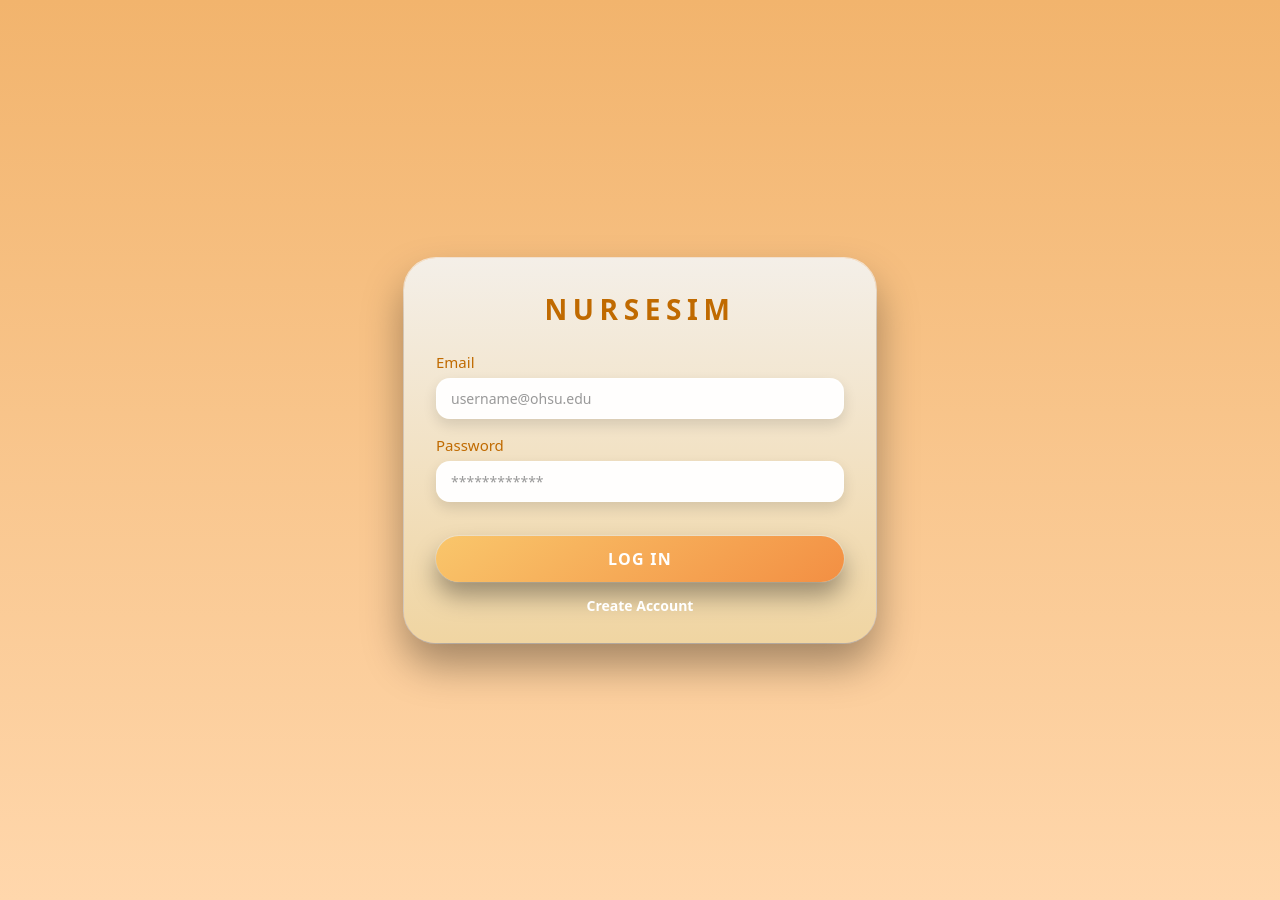
LoginPage › shows errors for invalid email and empty password
Type "invalidemail" into the field labelled "Email" at {"x": 640, "y": 398}, box [436, 378, 844, 418]
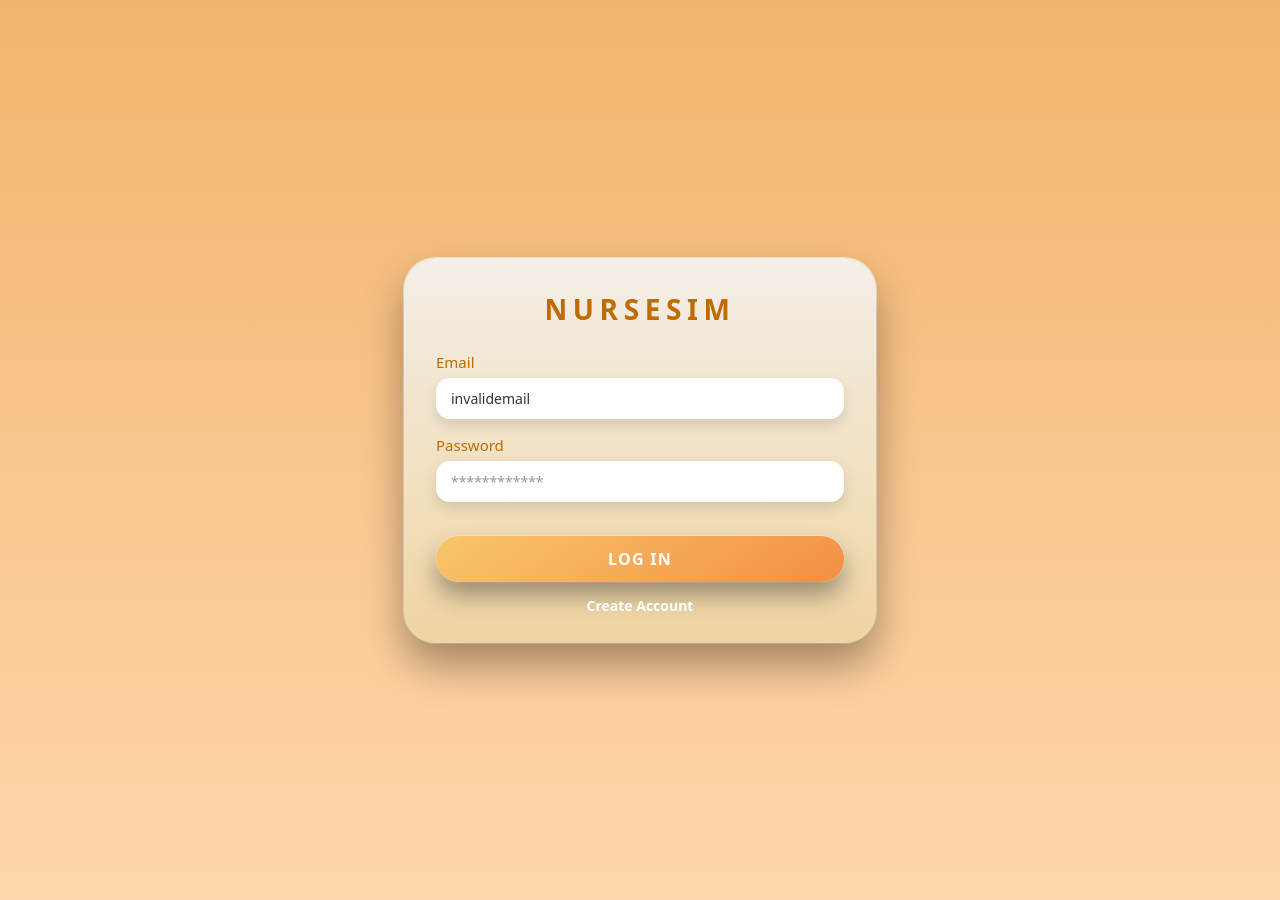
Click the button "Log In" at {"x": 640, "y": 558}, box [436, 536, 844, 582]
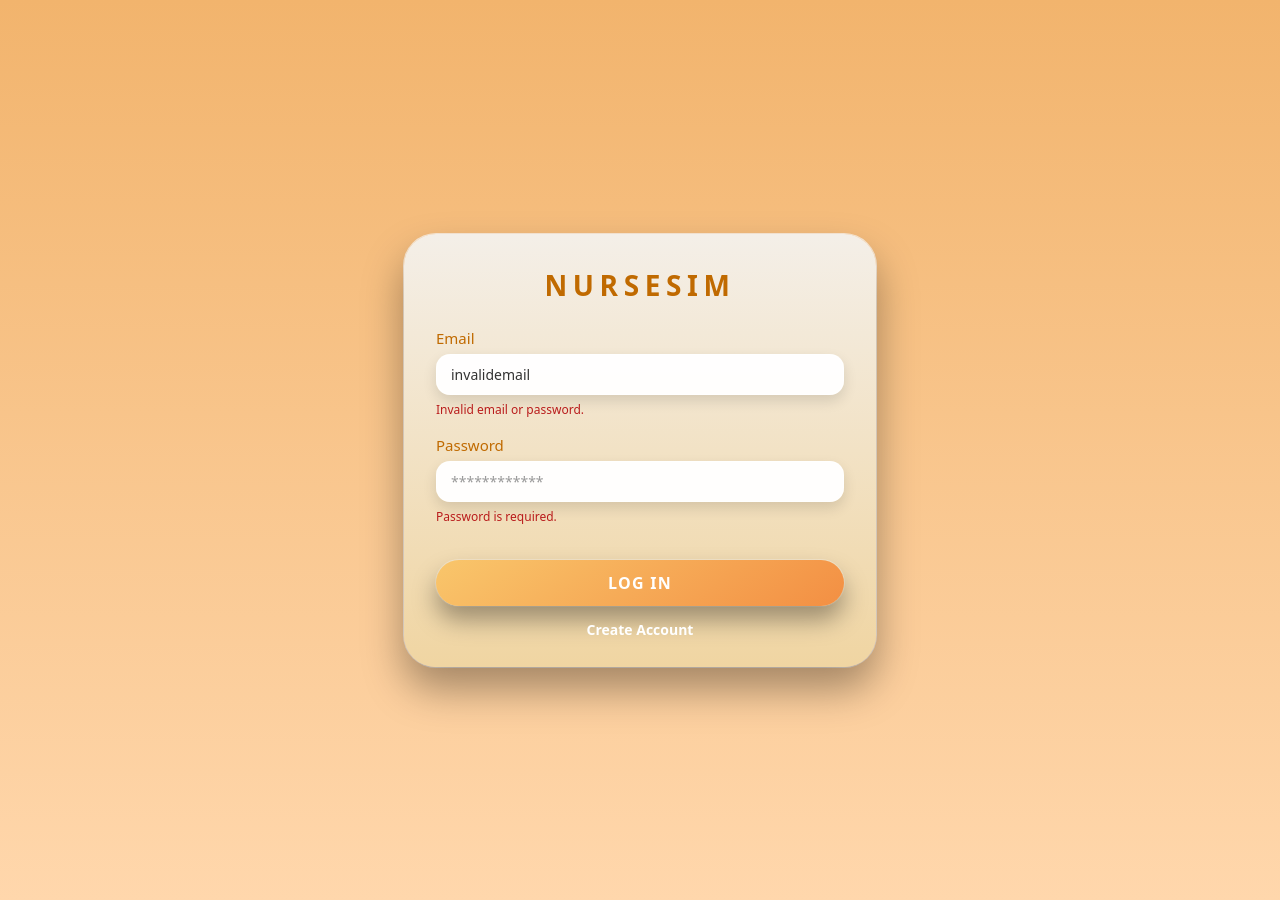
Expected: the text "Invalid email or password." is shown, [436, 400, 584, 418]
Expected: the text "Password is required." is shown, [436, 508, 557, 524]
